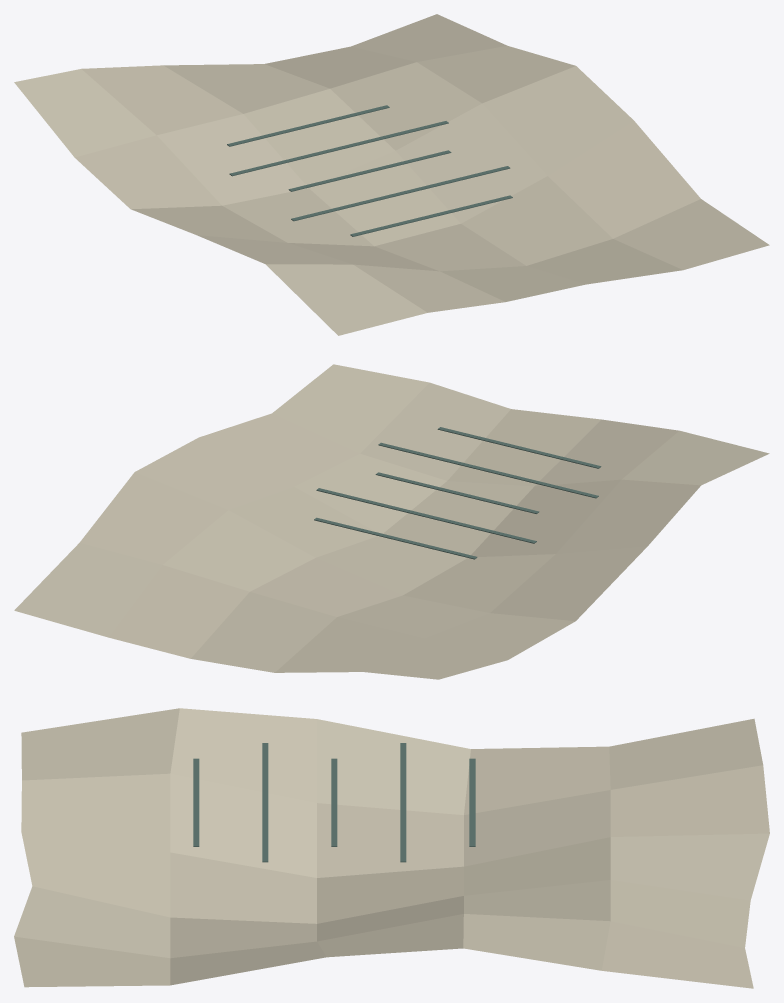
Rendered from paper_00.glb.
3 views of the same model, one above another, from view 1: azimuth 30°, elevation 25°; view 2: azimuth 150°, elevation 25°; view 3: azimuth 270°, elevation 25° (orthographic). The views are drawn at different scales.
Parts seen in each view (by area): view 1: Paper scrap; view 2: Paper scrap; view 3: Paper scrap.
Part boxes in pixels (x1,y1,x2,y2): Paper scrap: (14, 14, 769, 335); Paper scrap: (14, 364, 769, 679); Paper scrap: (14, 708, 769, 988).
Bounding box in the file's own units: 0.1336 × 0.0198 × 0.1752.
